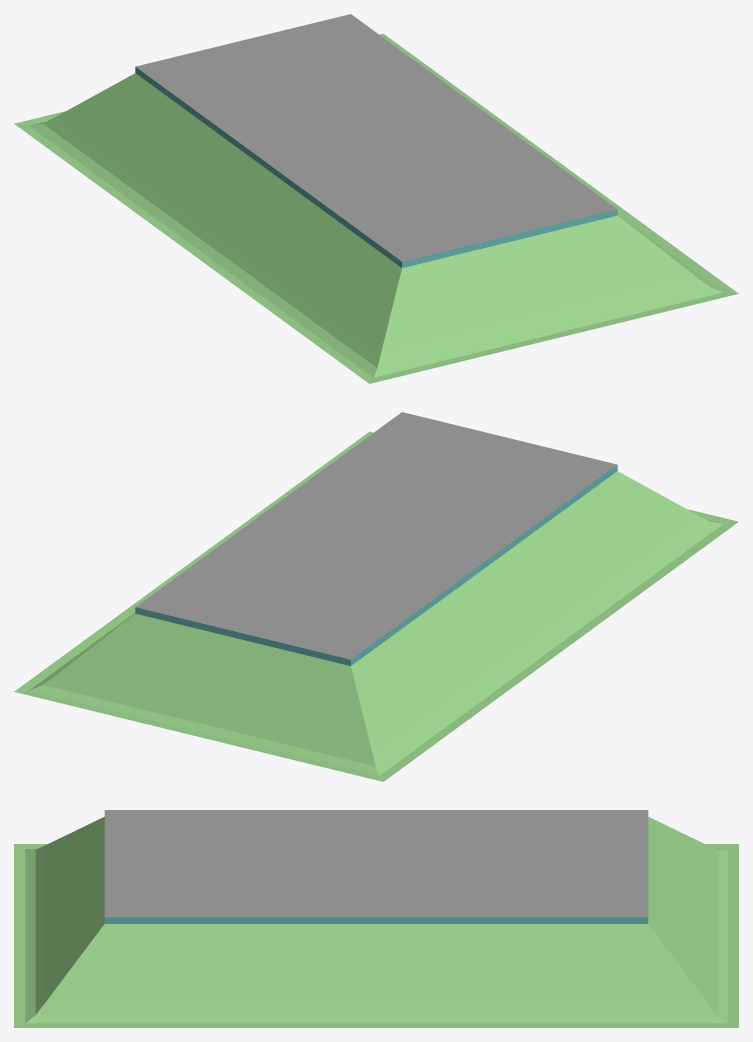
File: CeilingCenterRectangle.fbx
3 renders of one model, top to bottom at view 1: azimuth 30°, elevation 25°; view 2: azimuth 150°, elevation 25°; view 3: azimuth 270°, elevation 25°, orthographic.
Visible parts, largest first — view 1: CeilingCenterRectangle; view 2: CeilingCenterRectangle; view 3: CeilingCenterRectangle.
Part boxes in pixels (x1=…): CeilingCenterRectangle: x1=14, y1=14, x2=738, y2=383; CeilingCenterRectangle: x1=14, y1=412, x2=738, y2=781; CeilingCenterRectangle: x1=14, y1=810, x2=738, y2=1027.
Size of the model in its own units: 6 by 1.1 by 10.
